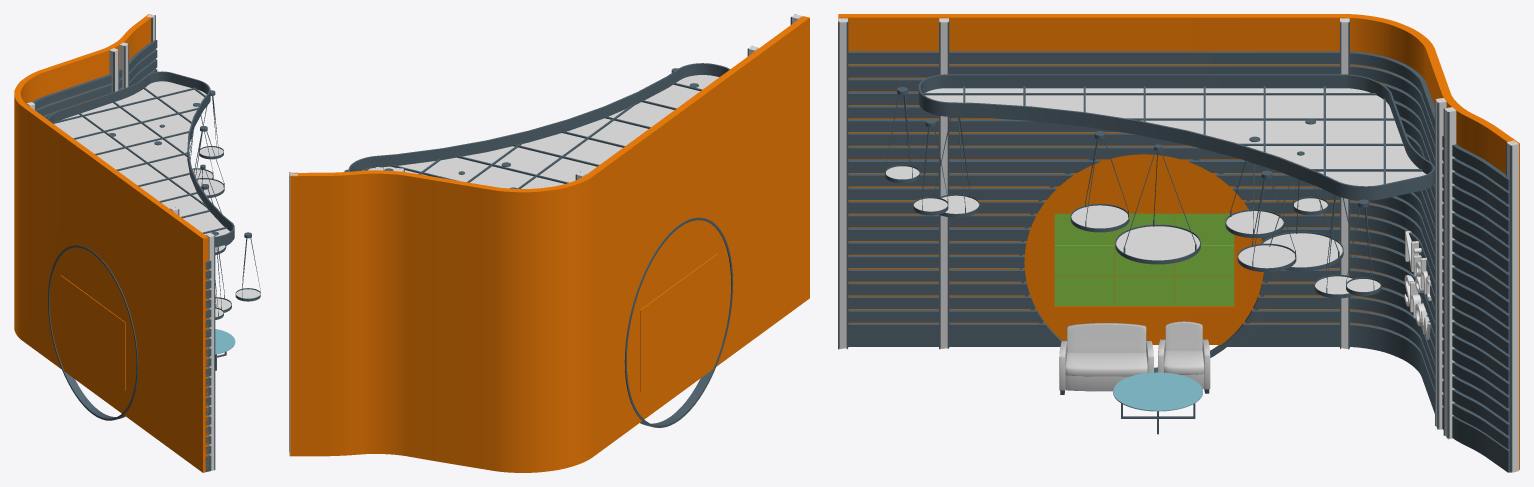
The model's file is zone_4.fbx.
The picture shows the model from 3 angles, left to right: view 1: azimuth 30°, elevation 25°; view 2: azimuth 150°, elevation 25°; view 3: azimuth 270°, elevation 25°; orthographic projection. The views are drawn at different scales.
Visible parts, largest first — view 1: SM_wall_zone4, SM_ceiling_zone4, SM_wall2_zone4, SM_lamps_zone4, SM_table_zone4; view 2: SM_wall_zone4, SM_ceiling_zone4, SM_wall2_zone4; view 3: SM_wall2_zone4, SM_wall_zone4, SM_ceiling_zone4, SM_ecran_zone4, SM_lamps_zone4, SM_sofa_zone4, SM_lamp1_zone4, SM_table_zone4, SM_armchair_zone4, SM_lamp2_zone4, SM_Text.
Boxes of the visible parts, x1,y1,x2,y2 form: SM_wall_zone4: [14, 14, 215, 472]; SM_ceiling_zone4: [47, 71, 234, 247]; SM_wall2_zone4: [33, 39, 211, 471]; SM_lamps_zone4: [109, 90, 260, 319]; SM_table_zone4: [215, 329, 235, 370]; SM_wall_zone4: [289, 14, 809, 472]; SM_ceiling_zone4: [348, 63, 730, 188]; SM_wall2_zone4: [624, 217, 733, 427]; SM_wall2_zone4: [848, 51, 1510, 472]; SM_wall_zone4: [838, 14, 1519, 472]; SM_ceiling_zone4: [918, 74, 1434, 200]; SM_ecran_zone4: [1054, 213, 1234, 305]; SM_lamps_zone4: [885, 87, 1381, 298]; SM_sofa_zone4: [1059, 323, 1153, 394]; SM_lamp1_zone4: [1115, 144, 1200, 264]; SM_table_zone4: [1113, 372, 1202, 434]; SM_armchair_zone4: [1158, 321, 1210, 393]; SM_lamp2_zone4: [1070, 131, 1129, 232]; SM_Text: [1404, 231, 1431, 339].
Bounding box in the file's own units: 559 × 656 × 1135.
